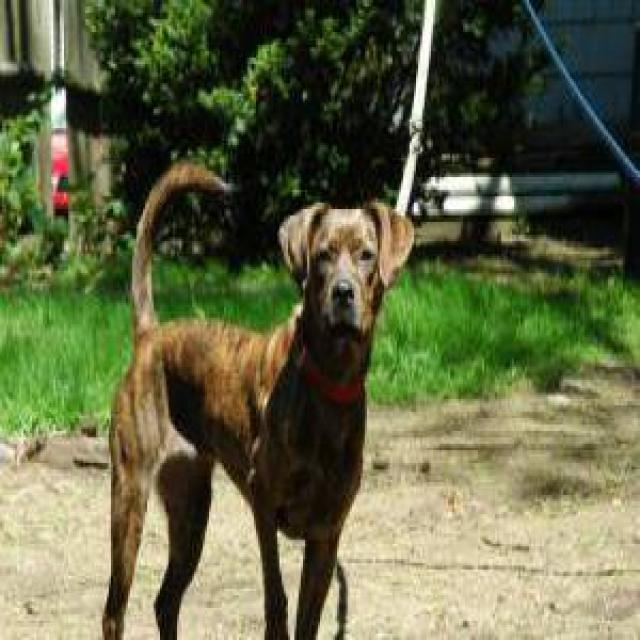dog: (269, 205, 414, 533)
